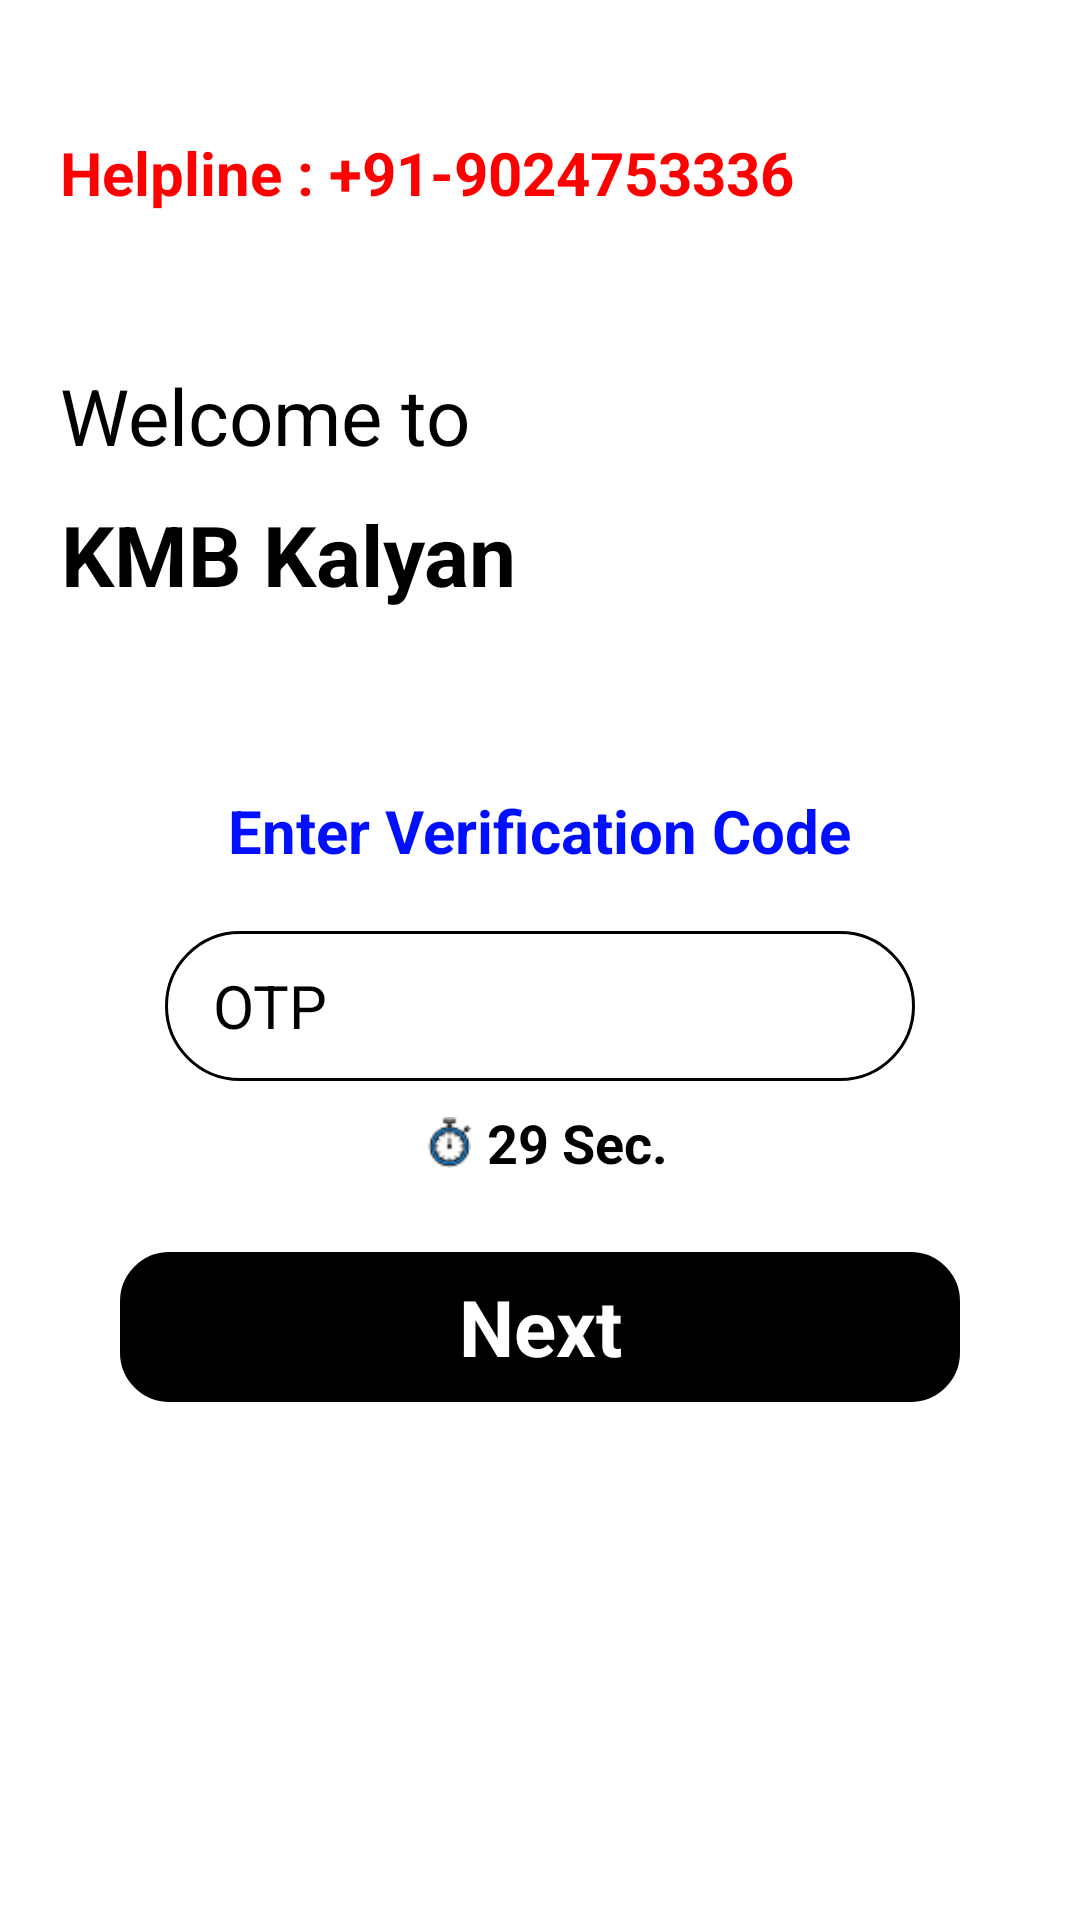

Icon bounding boxes for this 1080w x 1920h phone screenshot, format box=[x1, y1, x2, y2]:
timer: box=[428, 1117, 471, 1168]
